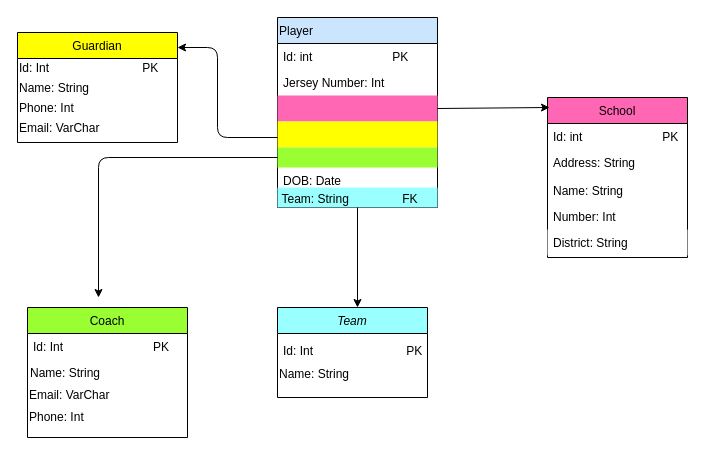
The diagram is 705 pixels wide and 455 high, and some of its shapes have lost their labels. Each missing label, with the centre of its shape:
Coach: String FK: point (357, 157)
Guardian: String FK: point (357, 134)
School: String FK: point (357, 108)
